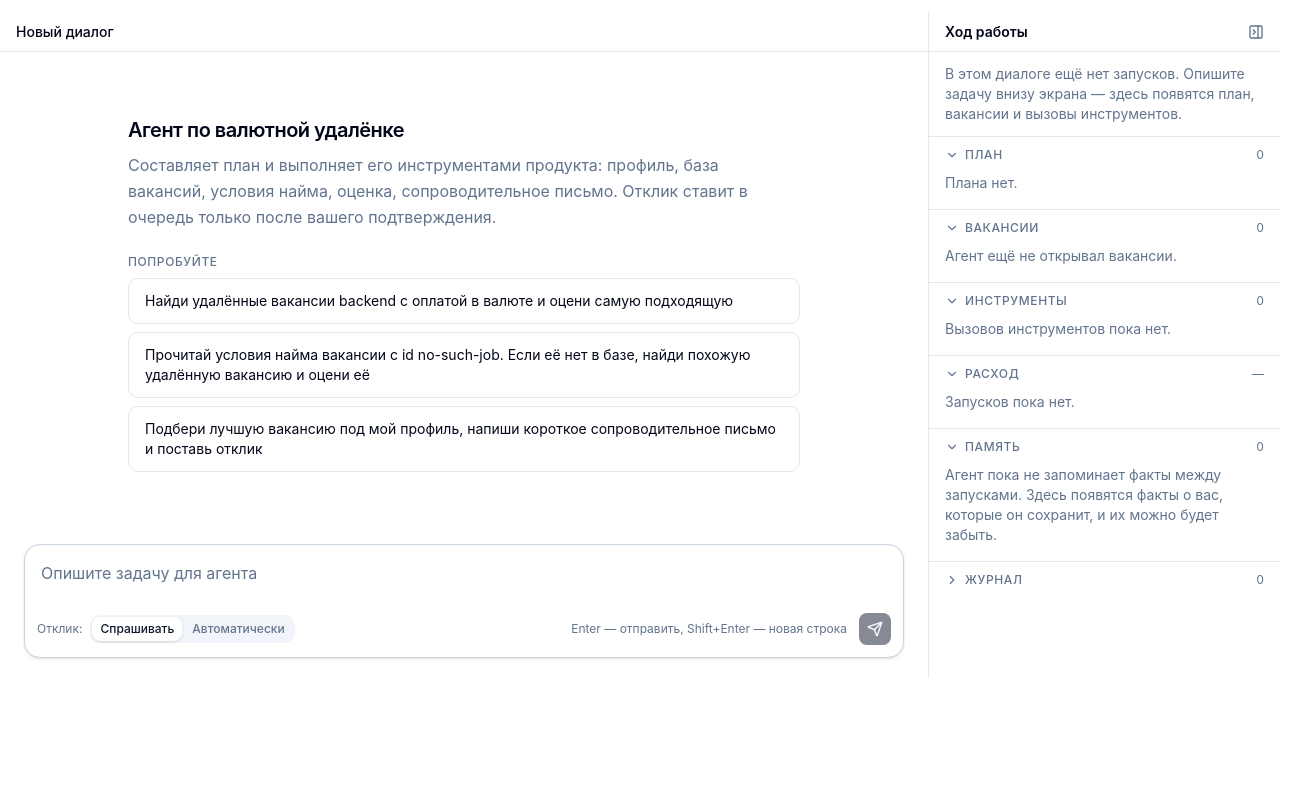
Test: ChatPage — главный экран «Агент» (U-5) › пустой экран: приветствие, примеры, один режим ввода, панель «Ход работы» справа
This screenshot has width=1292, height=812.
Check: the heading "Агент по валютной удалёнке" is shown, box left=128, top=118, right=404, bottom=142
Check: the text box with placeholder "Опишите задачу для агента" is shown, box left=37, top=557, right=891, bottom=605
// Примеры целей: клик подставляет цель в композер.
Click the button "no-such-job" at (464, 365), box left=128, top=332, right=800, bottom=398
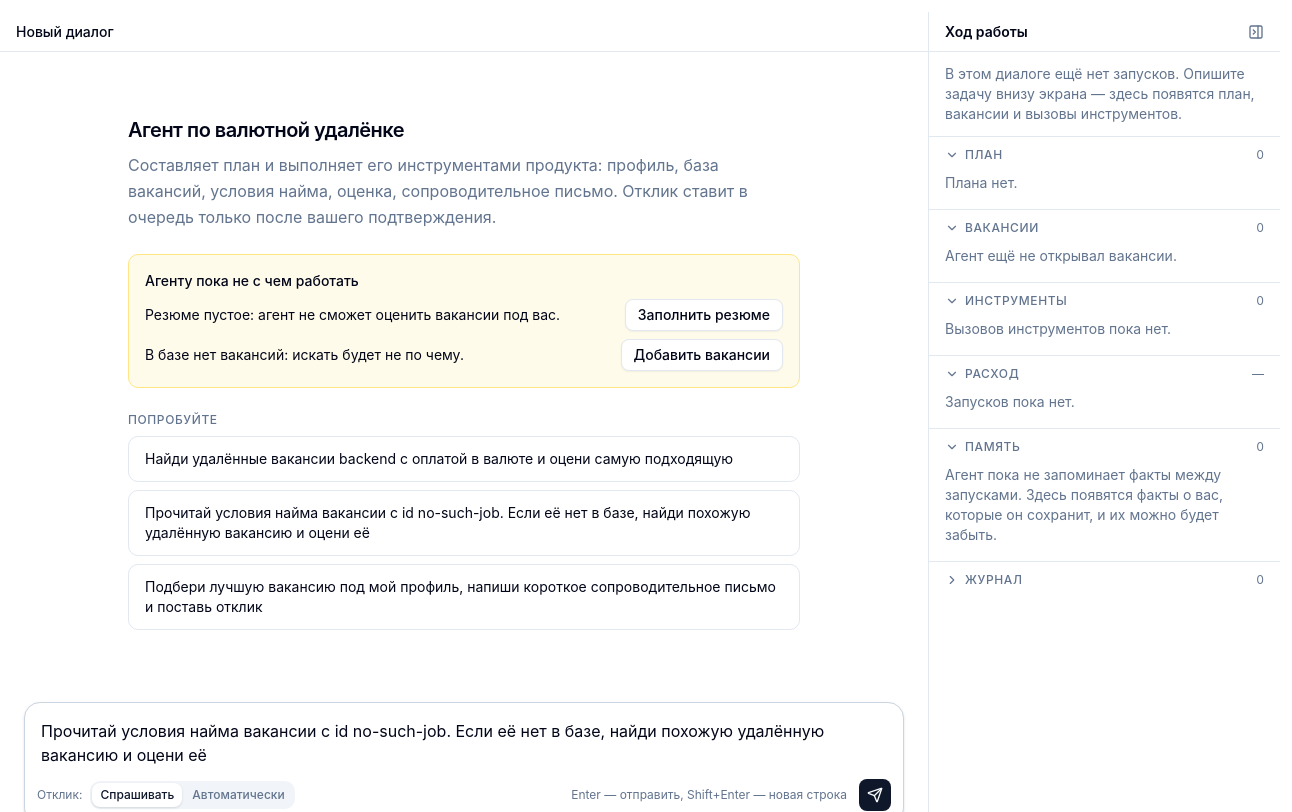
Check: the text box showing "no-such-job" is shown, box left=37, top=715, right=891, bottom=771
